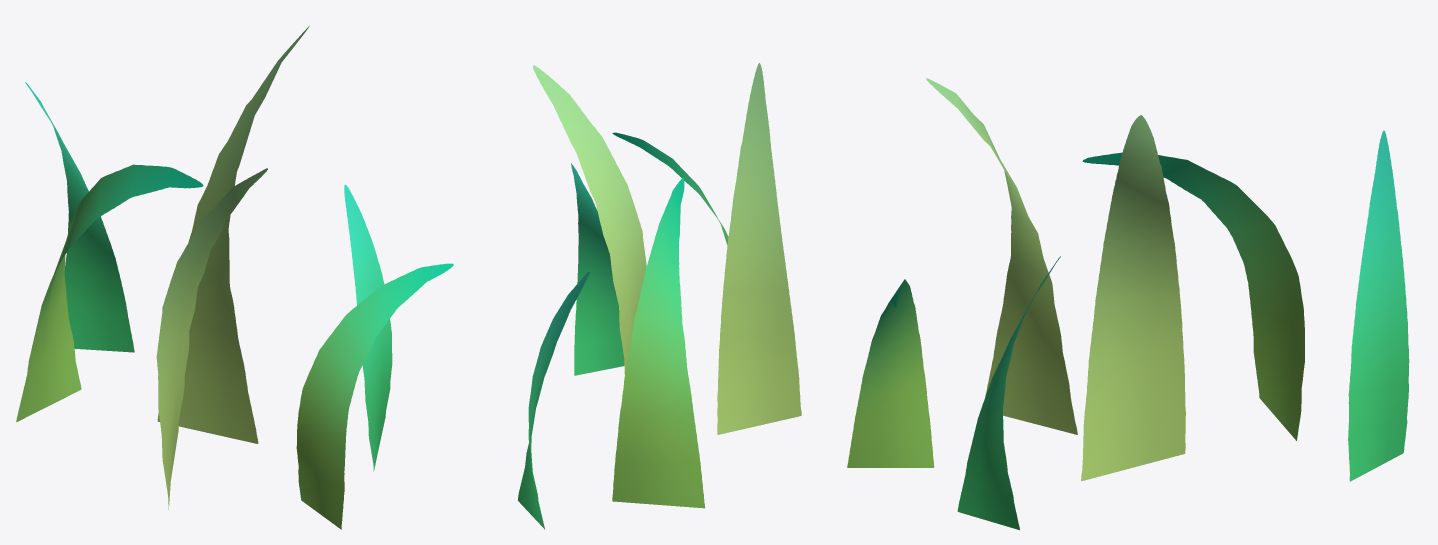
The model's file is GrassBunch1.fbx.
3 renders of one model, left to right at view 1: azimuth 30°, elevation 25°; view 2: azimuth 150°, elevation 25°; view 3: azimuth 270°, elevation 25°, orthographic. The views are drawn at different scales.
Parts seen in each view (by area): view 1: GrassBunch1; view 2: GrassBunch1; view 3: GrassBunch1.
Part boxes in pixels (x1,y1,x2,y2): GrassBunch1: (16,25,453,529); GrassBunch1: (518,63,801,529); GrassBunch1: (847,78,1409,530).
Size of the model in its own units: 0.1819 by 0.2586 by 0.3021.
Materials: 1 (1 with a texture image).
